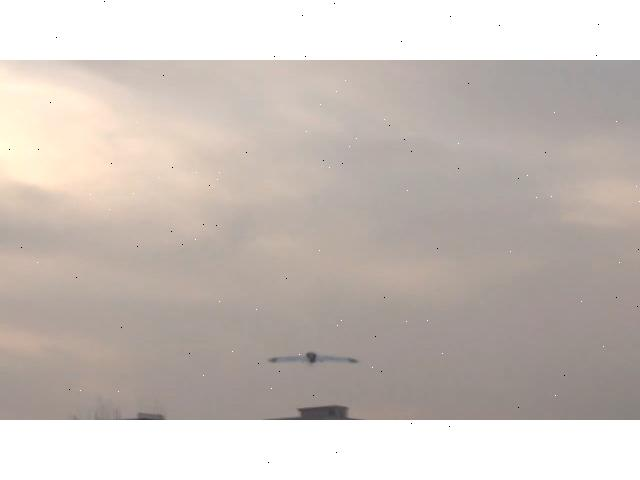Anti-Drone: (266, 352, 358, 364)
